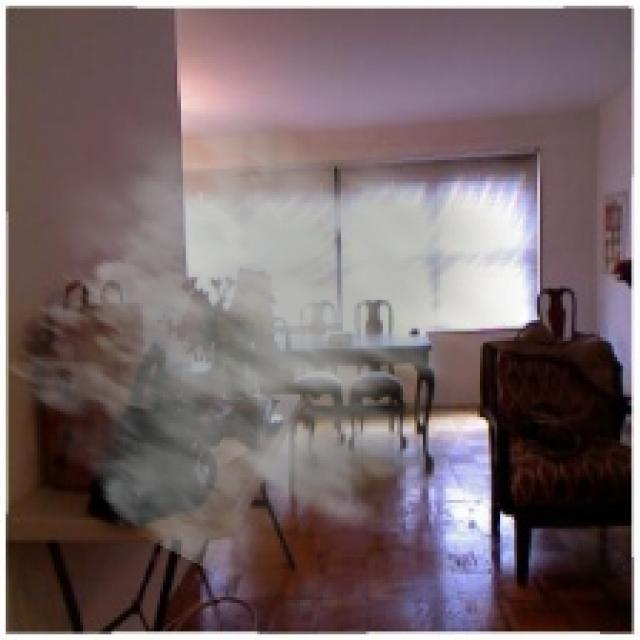Smoke: (2, 85, 554, 600)
